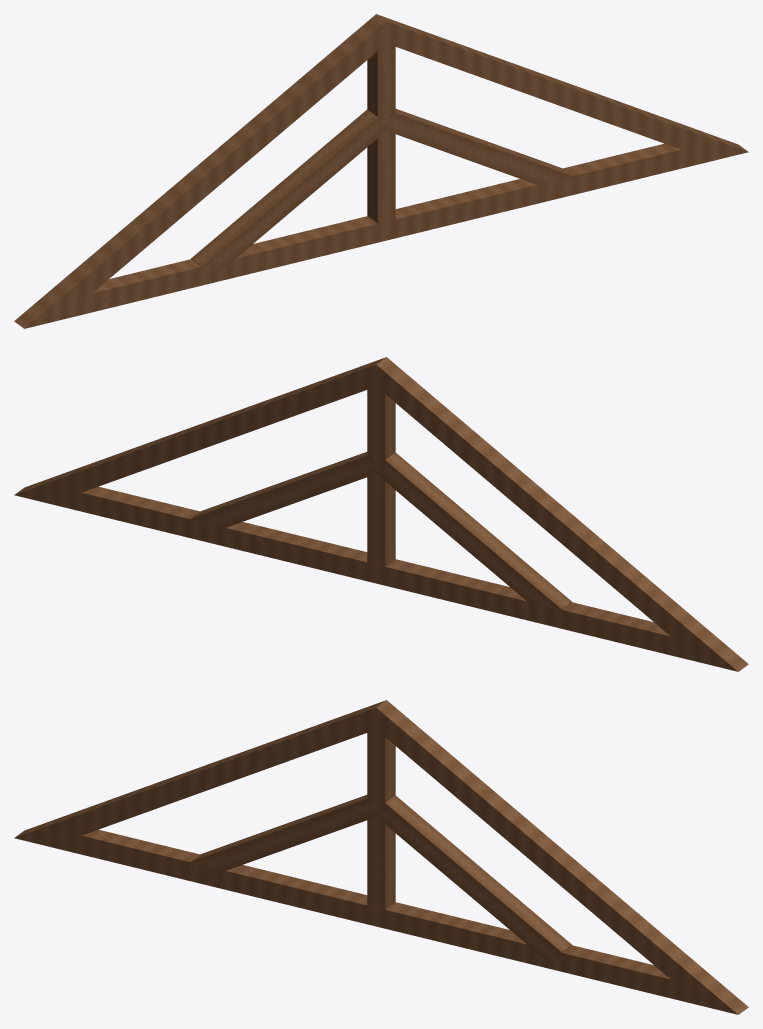
Rendered from MRP_Truss_4m.fbx.
The picture shows the model from 3 angles, top to bottom: view 1: azimuth 30°, elevation 25°; view 2: azimuth 150°, elevation 25°; view 3: azimuth 330°, elevation 25°; orthographic projection.
Visible parts, largest first — view 1: Body; view 2: Body; view 3: Body.
Boxes of the visible parts, box(x1,y1,x2,y2) form: Body: box(14, 14, 748, 328); Body: box(14, 357, 748, 671); Body: box(14, 700, 748, 1014).
Size of the model in its own units: 4 by 1.15 by 0.1.
